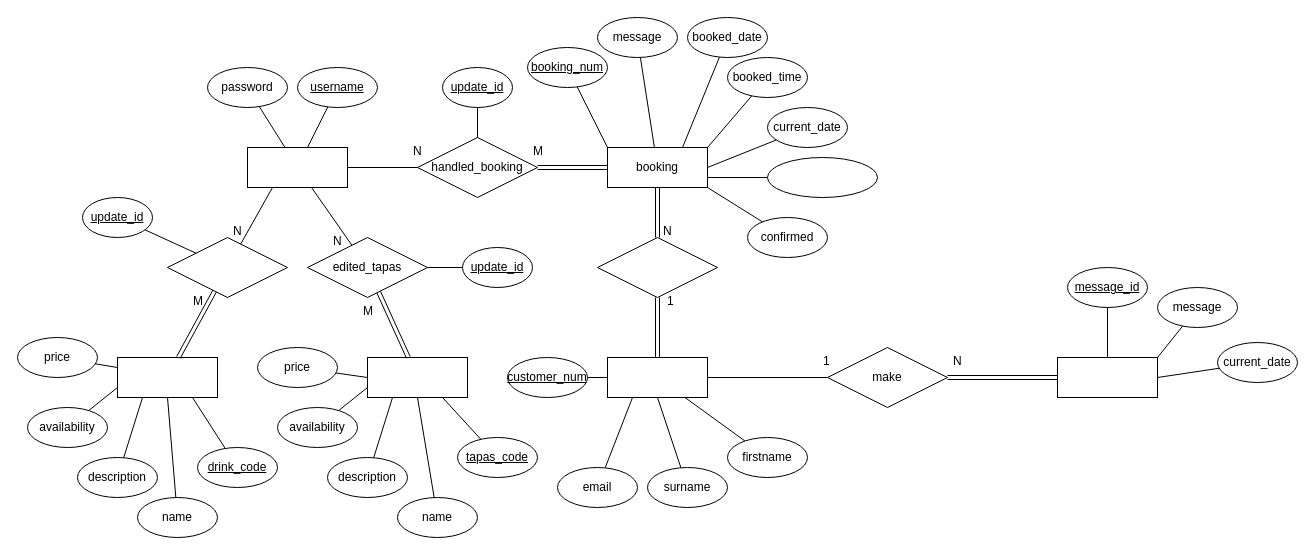
The diagram is 1315 pixels wide and 555 high, and some of its shapes have lost their labels. Here are the shapes that lost their labels. From the top down, the centre of each, then its label:
At point 297,167: "employee".
At point 822,177: "amount_of_people".
At point 227,267: "edited_drink".
At point 657,267: "placed".
At point 167,377: "drink_menu".
At point 417,377: "tapas_menu".
At point 657,377: "customer".
At point 1107,377: "review".
